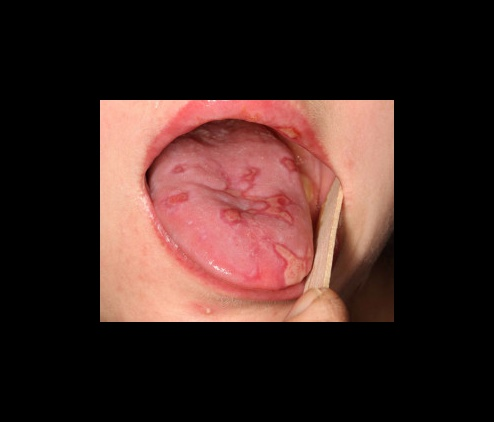SJS-TEN: (115, 99, 377, 325)
